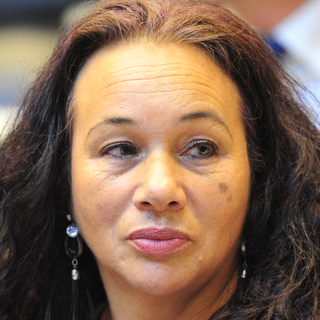eye: (172, 139, 224, 163), (96, 139, 143, 163)
